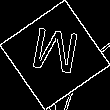M_S: (28, 26, 82, 84)
